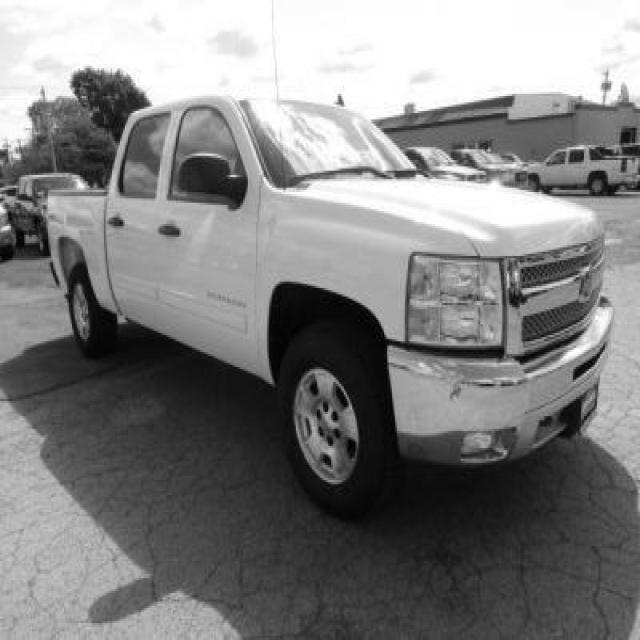plat_license: (43, 90, 614, 518)
